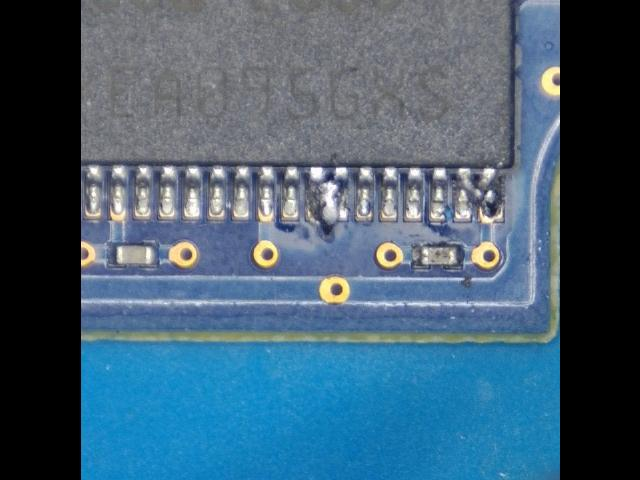Short_circuit: (453, 169, 501, 220), (307, 168, 350, 224)
